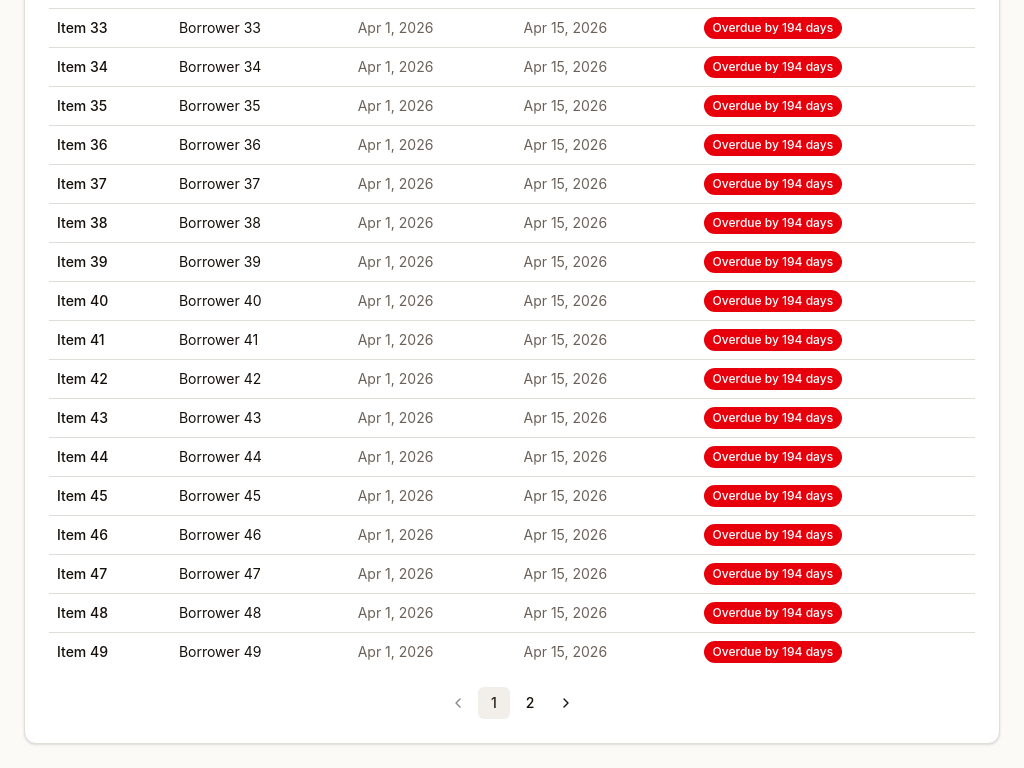
Scenario: <LoansListPage /> › pages past the first 50 loans and resets the page on a state switch
The width and height of the screenshot is (1024, 768).
(page scrolled)
Click the button with test id "loans-pagination-page-2" at point(530, 703), box [514,687,546,719]
(page scrolled)
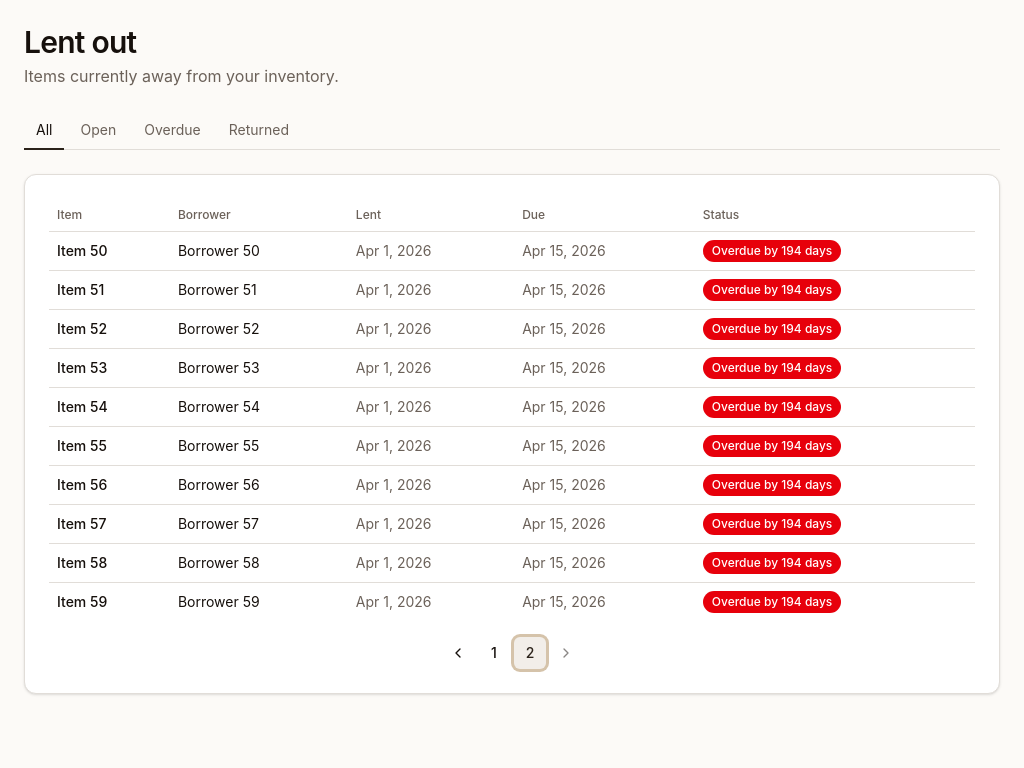
Now the row with test id "lent-row-loan-50" is shown, box [49,232,975,270]
Click the tab with test id "lent-state-returned" at point(259, 131), box [217,112,301,150]
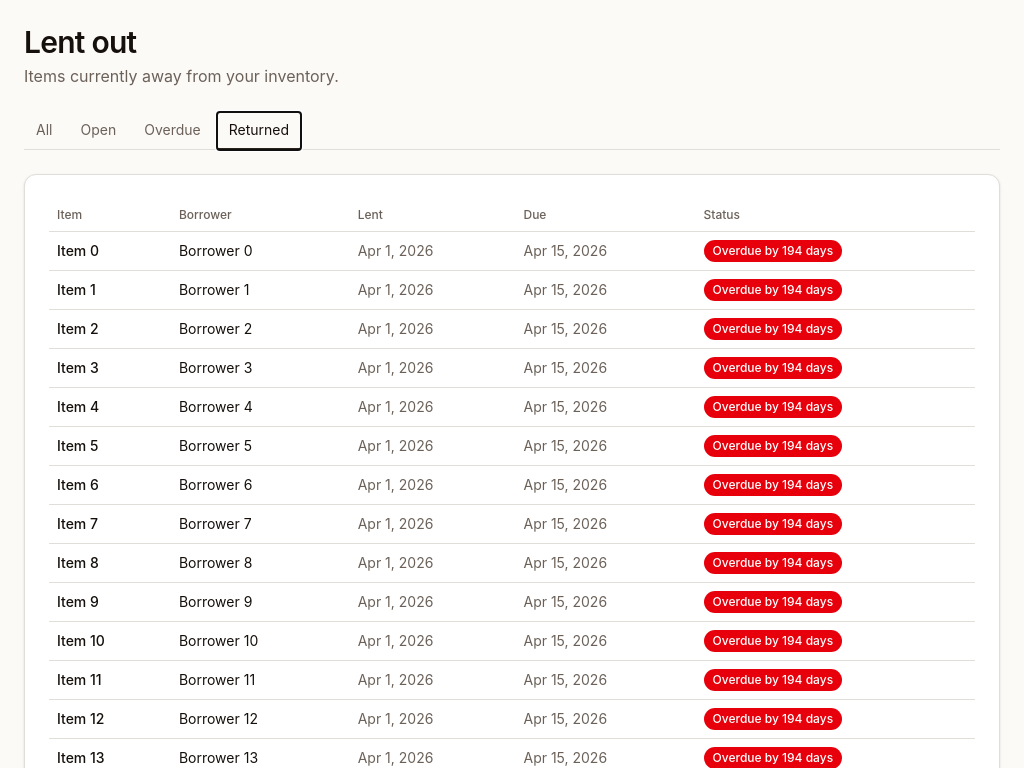
Now the row with test id "lent-row-loan-0" is shown, box [49,232,975,270]
